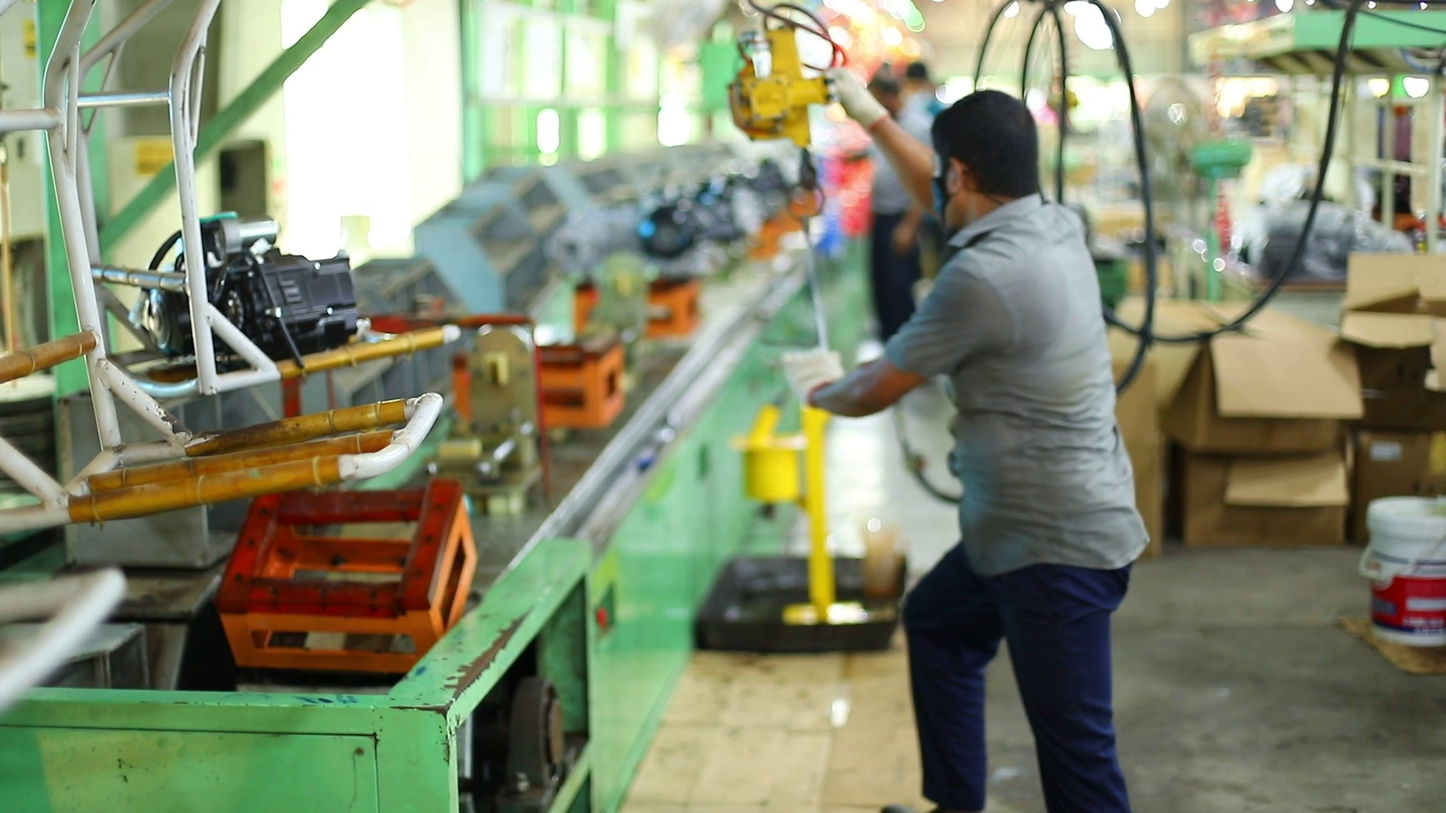mask: (935, 170, 955, 223)
person: (762, 66, 1151, 813), (863, 62, 935, 343), (895, 59, 954, 273)
